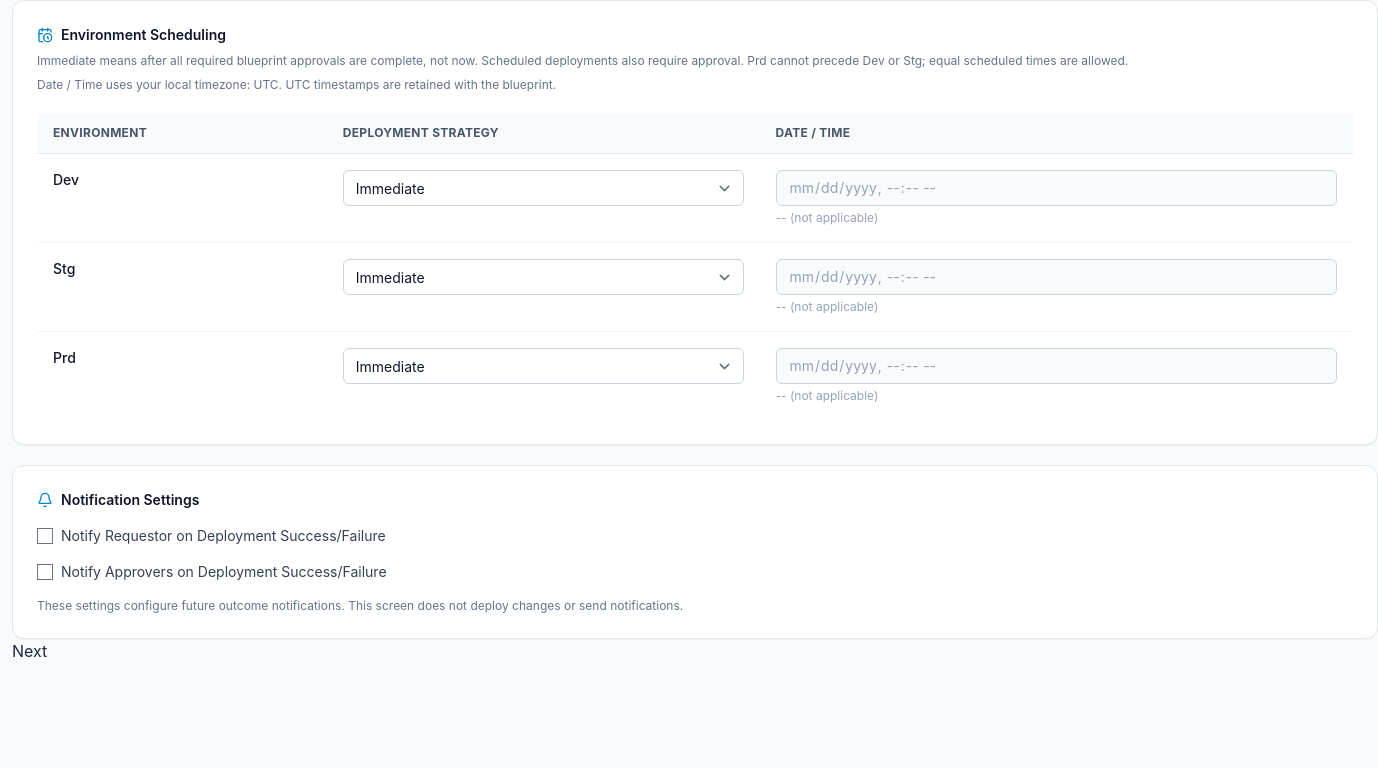
Test: Deployment form › shows exactly Dev, Stg and Prd with independent two-option selectors and disabled Immediate dates
expect the 1st dropdown named "Dev Deployment Strategy" shows "Immediate": met, box [343,170,744,206]
expect the 1st field named "Dev Date / Time" is disabled: met, box [776,170,1337,206]
Select "Scheduled" in the 2nd dropdown named "Stg Deployment Strategy" at (543, 277), box [343,259,744,295]
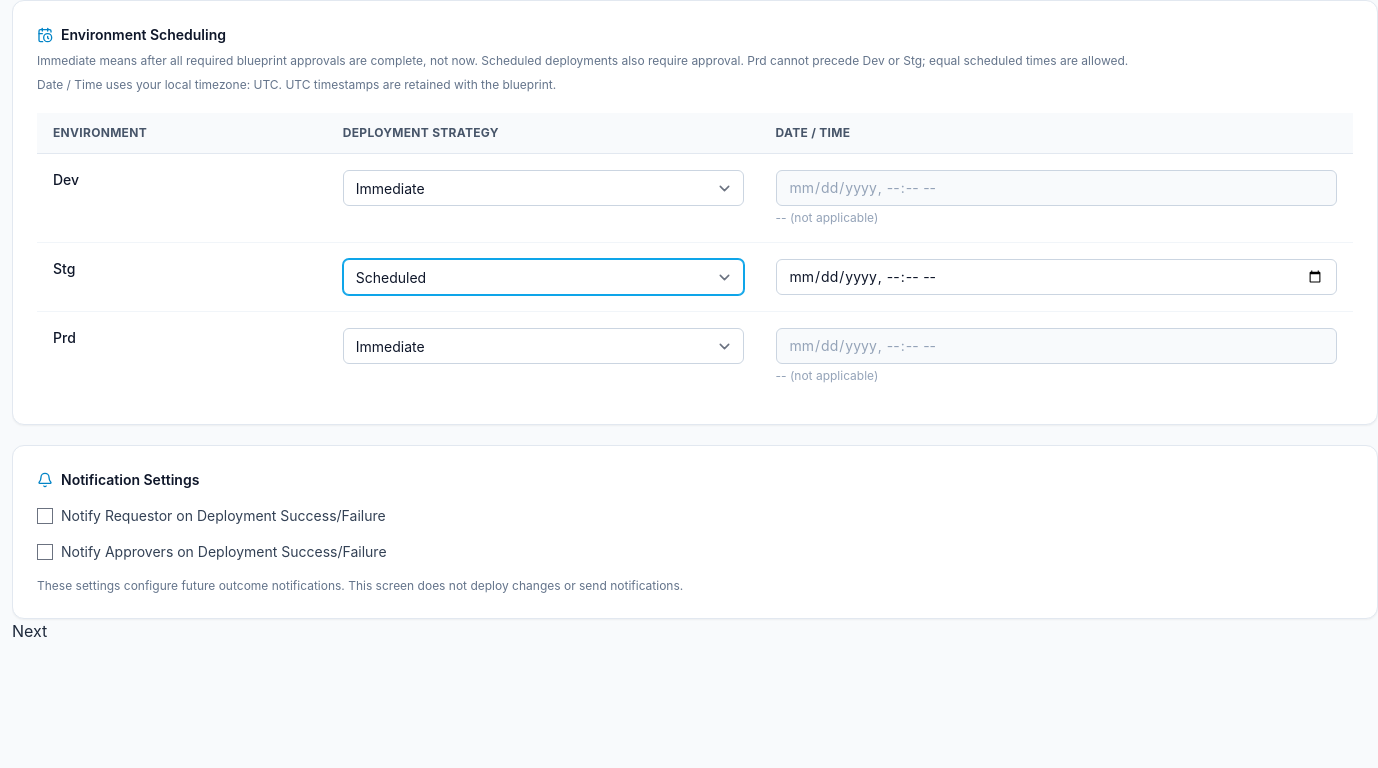
expect the 1st field named "Dev Date / Time" is disabled: met, box [776,170,1337,206]
expect the 2nd field named "Stg Date / Time" is enabled: met, box [776,259,1337,295]
